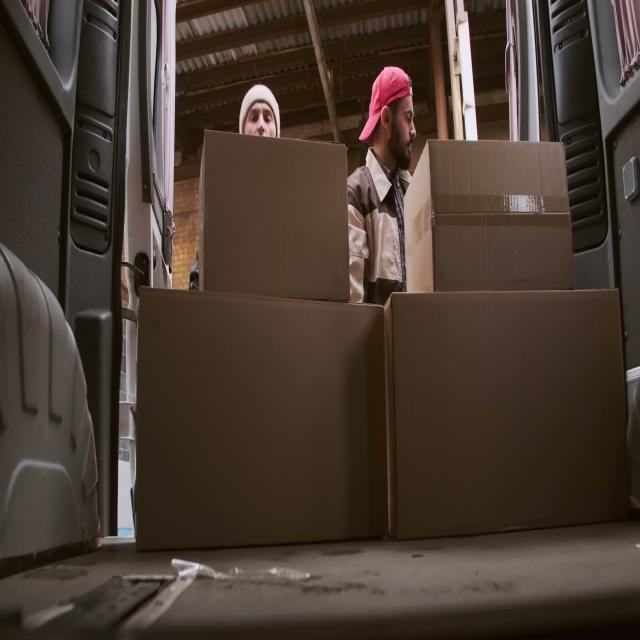counting-the-number-of-boxes: (136, 288, 389, 559), (384, 291, 632, 546), (403, 138, 574, 294), (199, 130, 351, 300)
